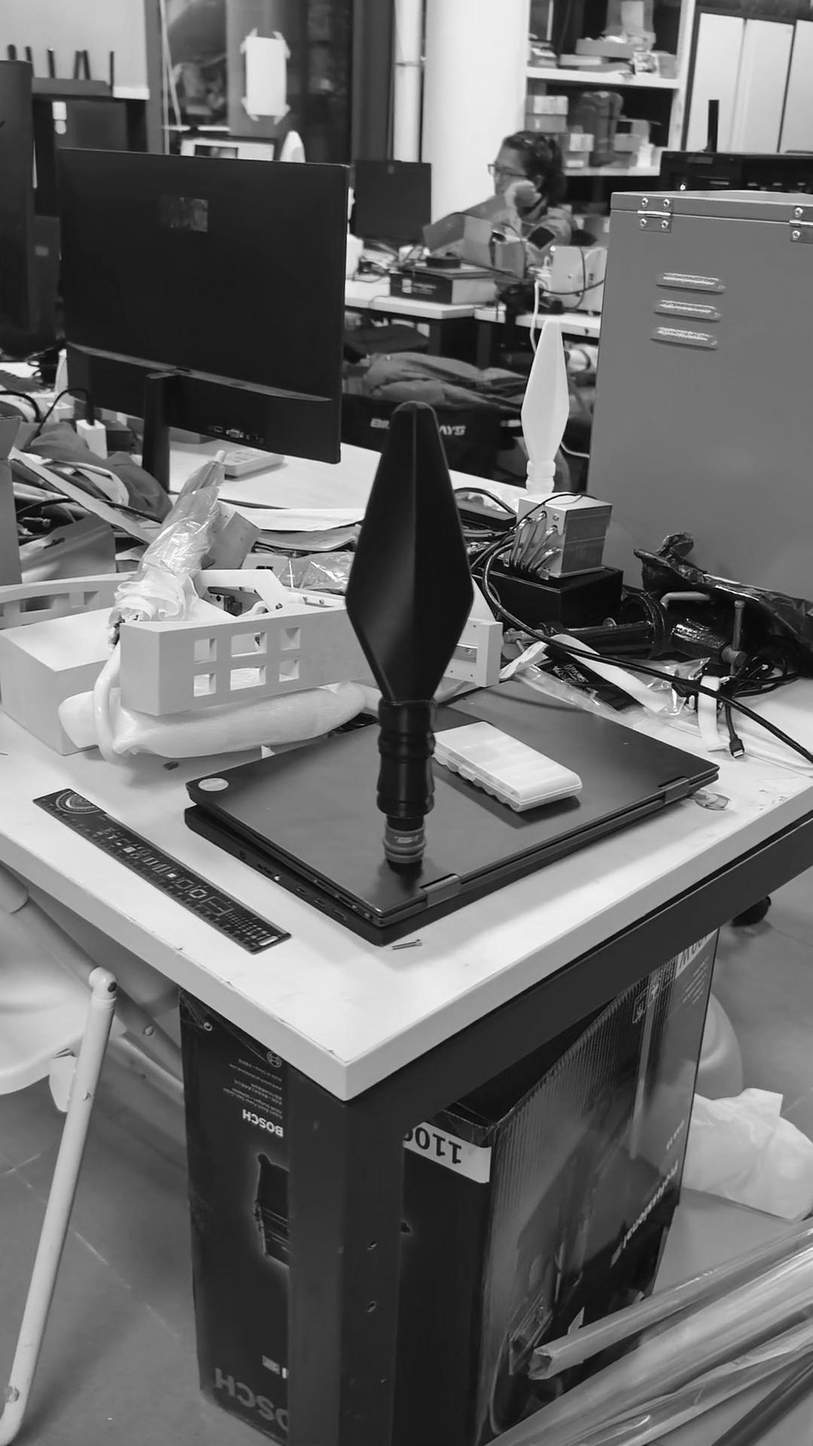base: (376, 821, 433, 870)
